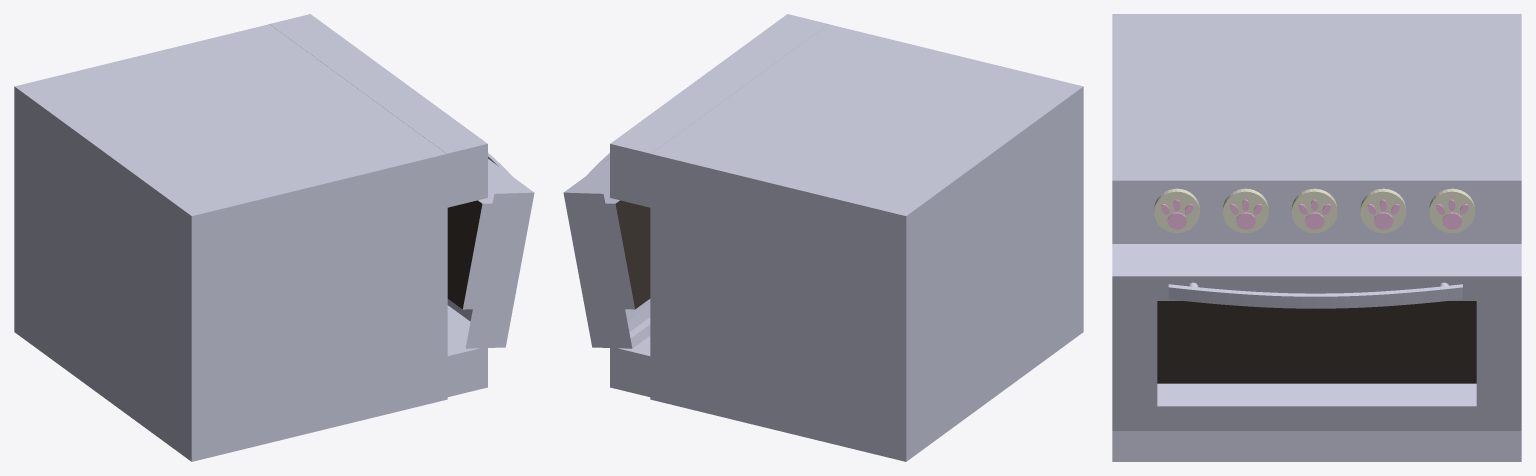
The model's file is oven_open.fbx.
The picture shows the model from 3 angles, left to right: view 1: azimuth 30°, elevation 25°; view 2: azimuth 150°, elevation 25°; view 3: azimuth 270°, elevation 25°; orthographic projection. The views are drawn at different scales.
Visible parts, largest first — view 1: oven_door; view 2: oven_door; view 3: oven_door.
Part boxes in pixels (x1,y1,x2,y2): oven_door: (14, 14, 534, 461); oven_door: (563, 14, 1083, 461); oven_door: (1112, 14, 1521, 461).
Size of the model in its own units: 262 by 171 by 224.
